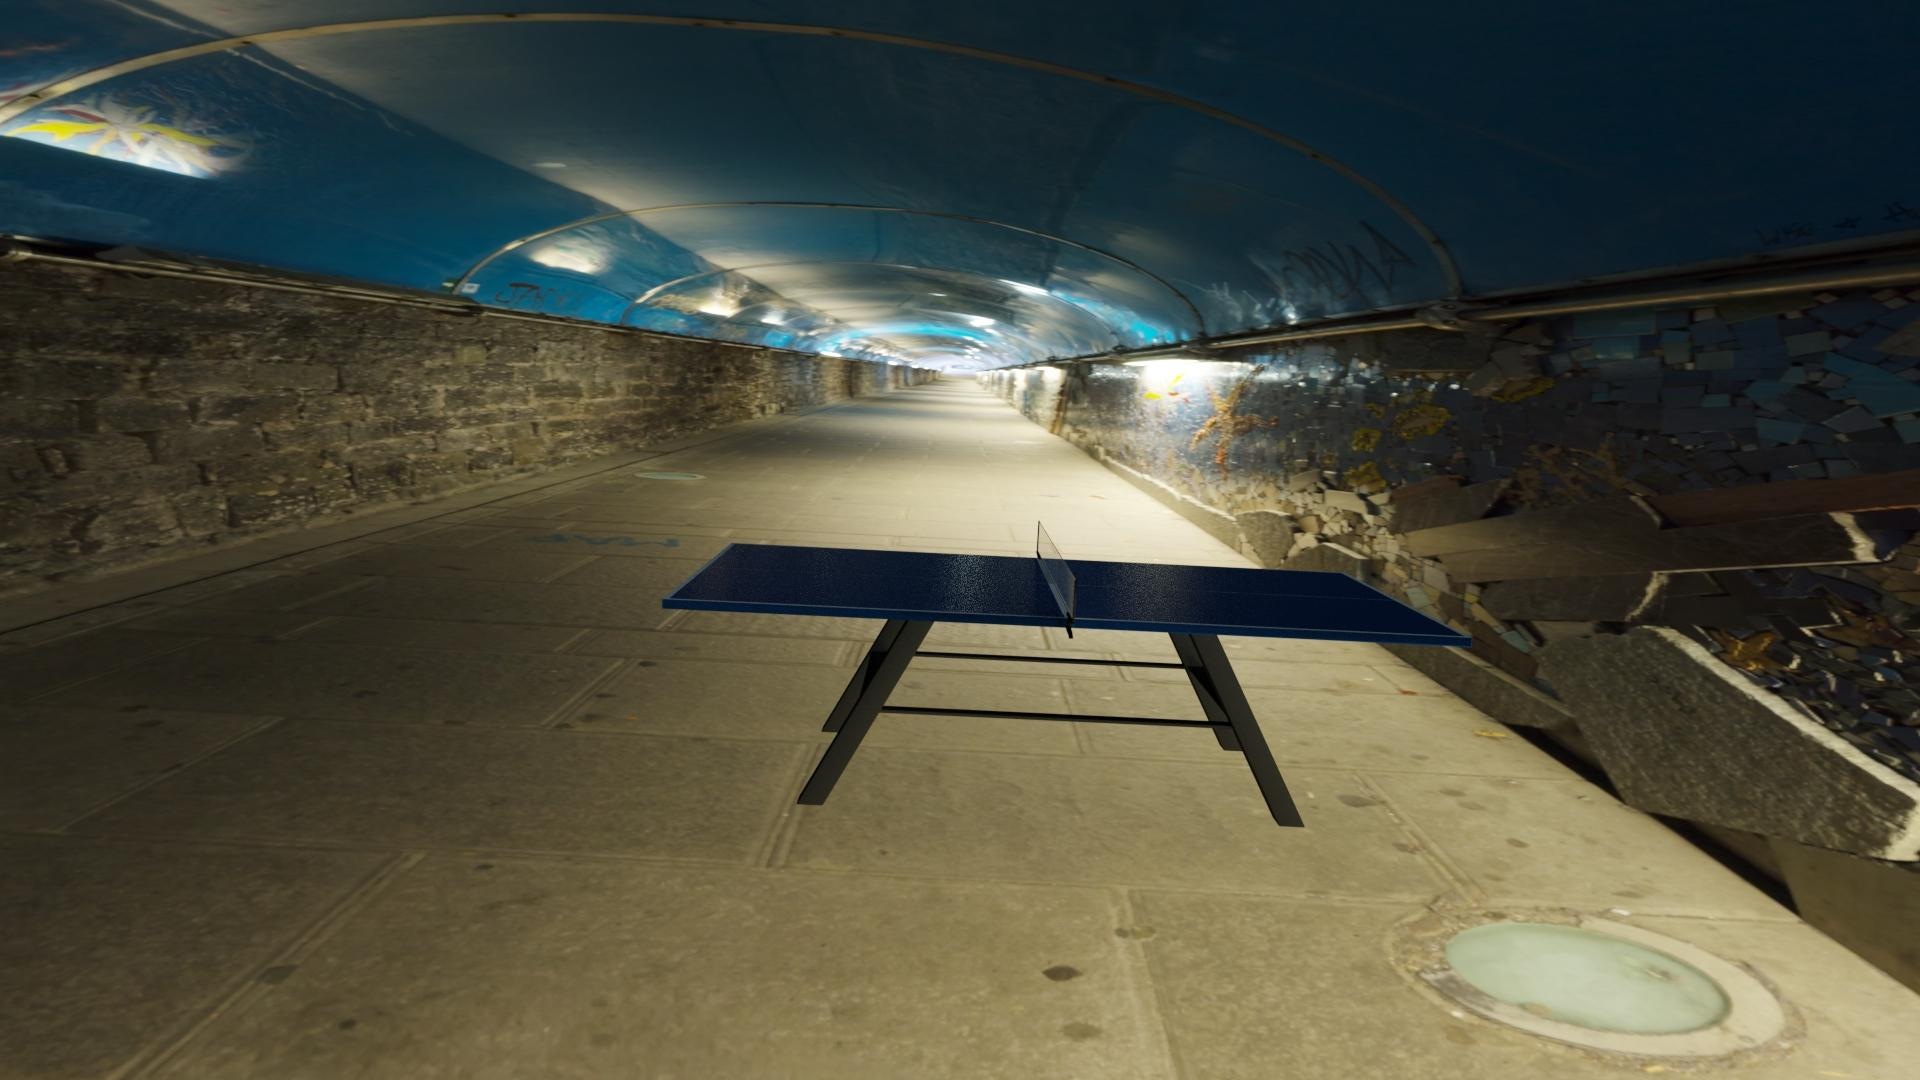table: (669, 543, 1465, 637)
